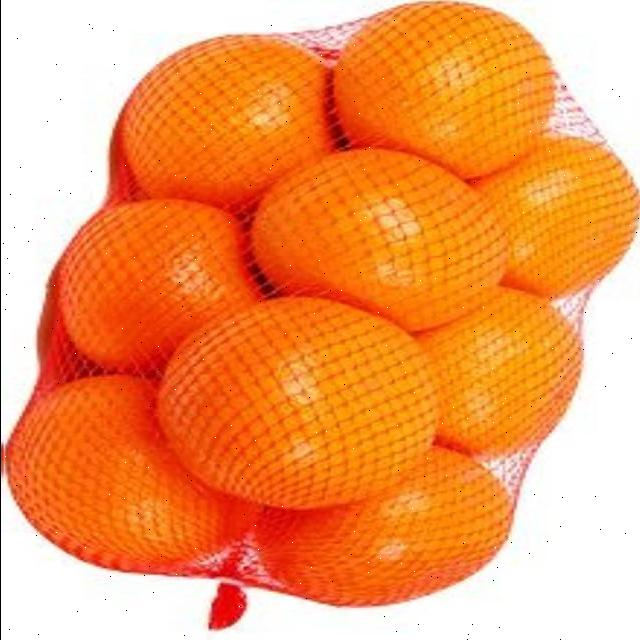Orange: (154, 302, 440, 514), (332, 2, 554, 184), (416, 298, 588, 466)
